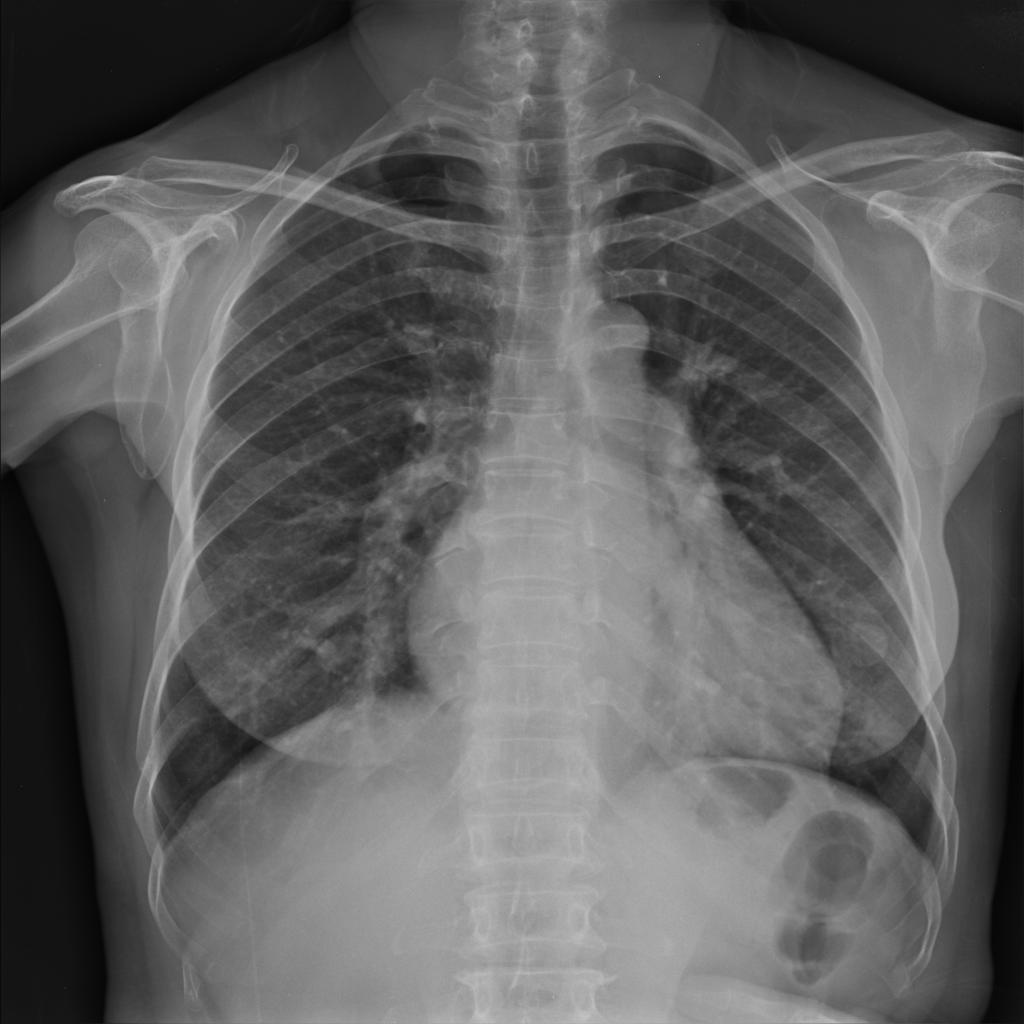Nodule: (838, 624, 890, 663), (315, 629, 357, 671)
